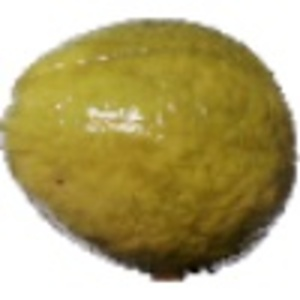goiaba: (2, 14, 288, 281)
